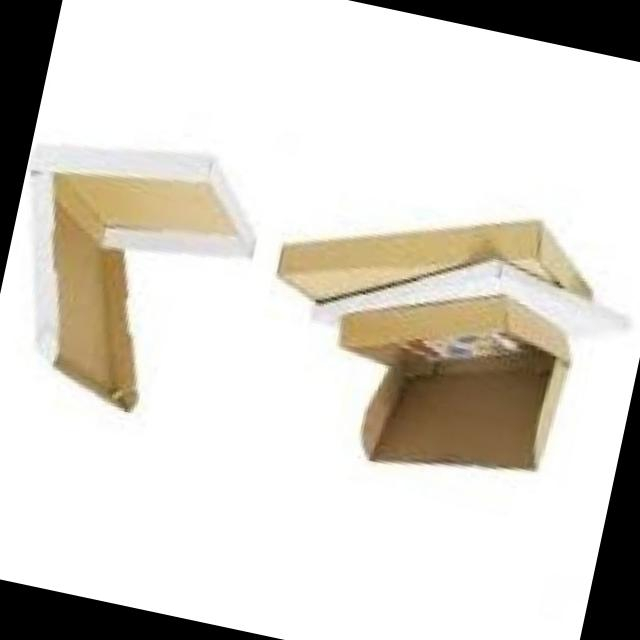cardboard paper: (28, 147, 251, 411), (337, 297, 566, 470), (275, 222, 588, 300)
